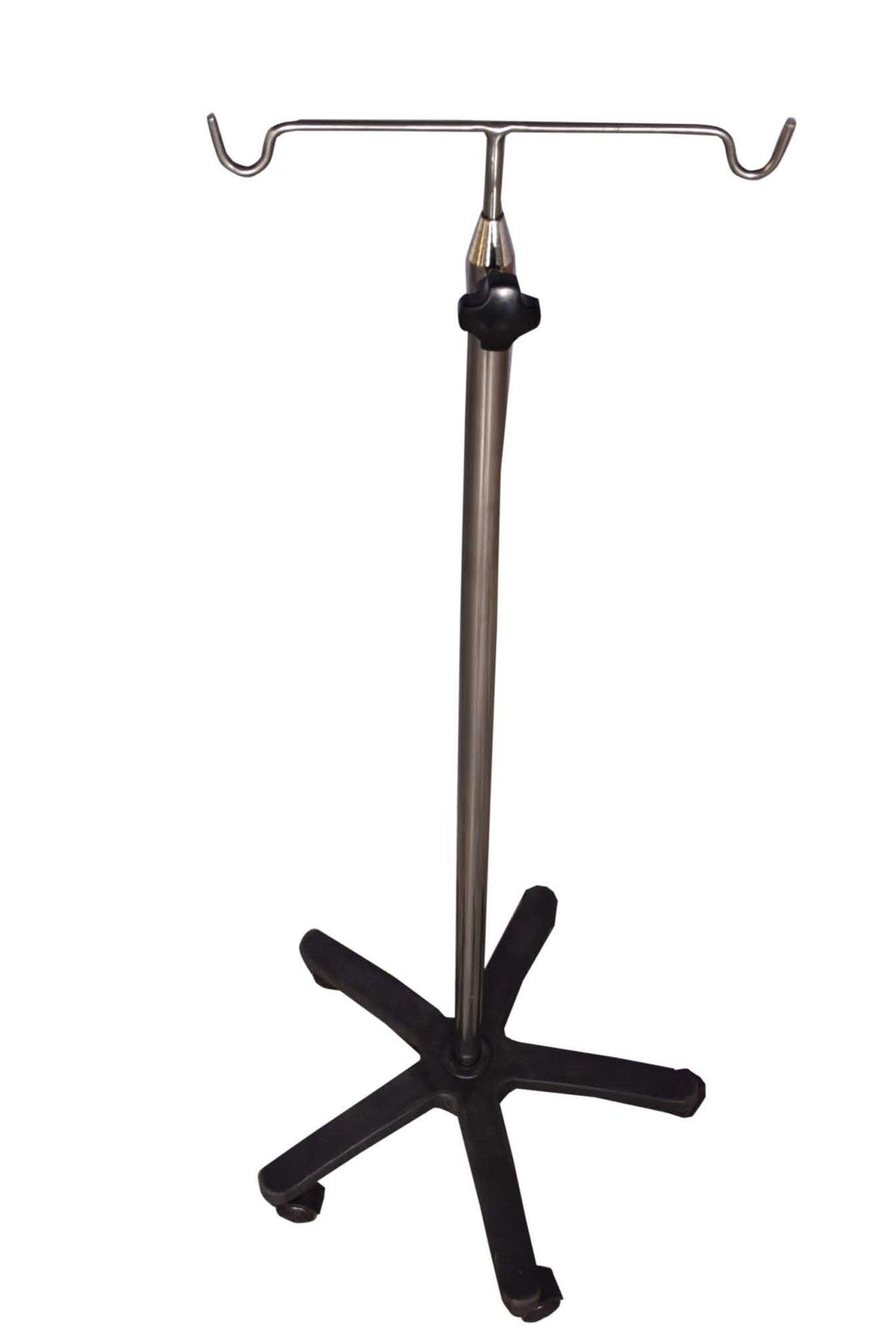Saline Stand: (205, 111, 796, 1321)
